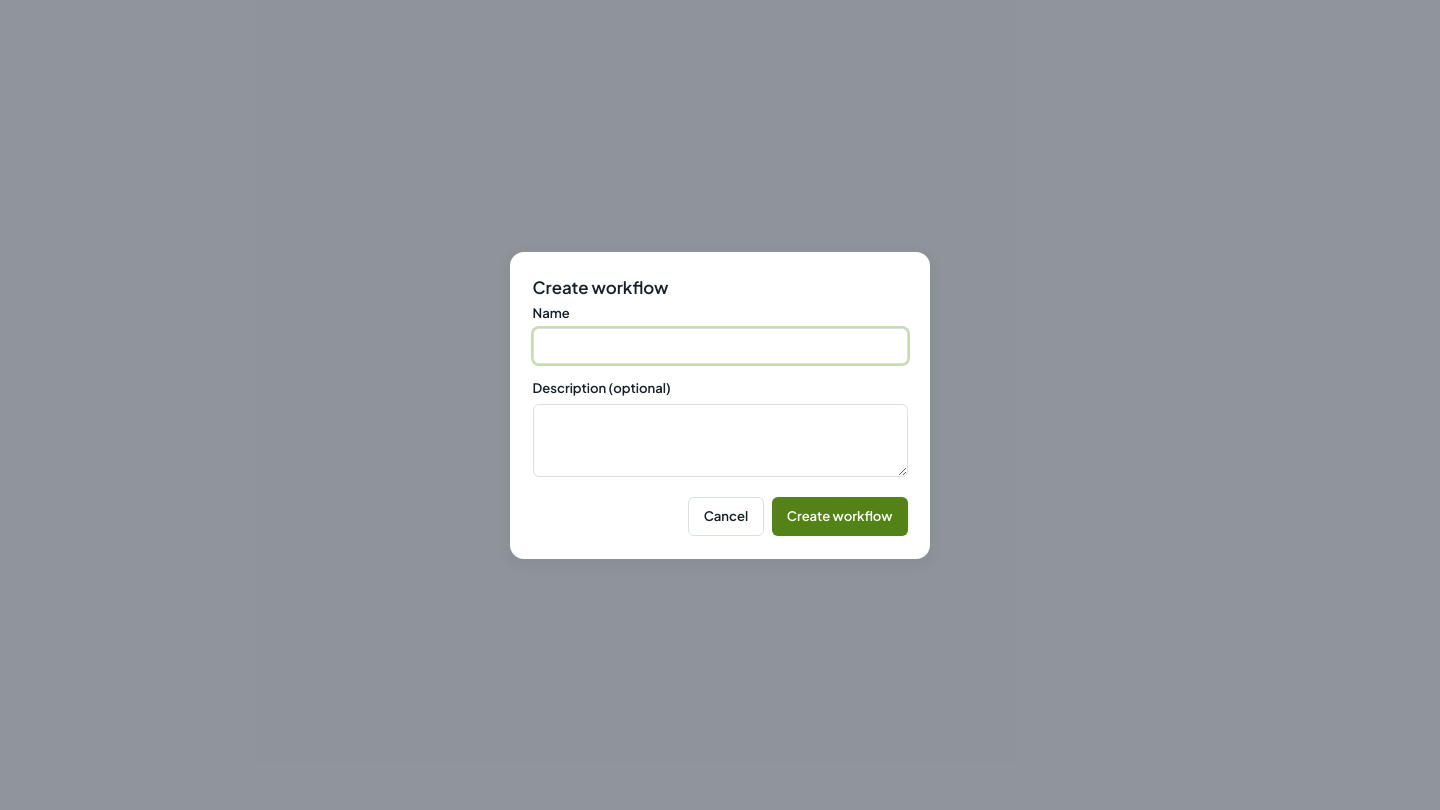
Test case: CreateWorkflowModal › clears the name error as soon as a name is typed
Click the button "Create workflow" at point(840, 516), box [772,496,908,536]
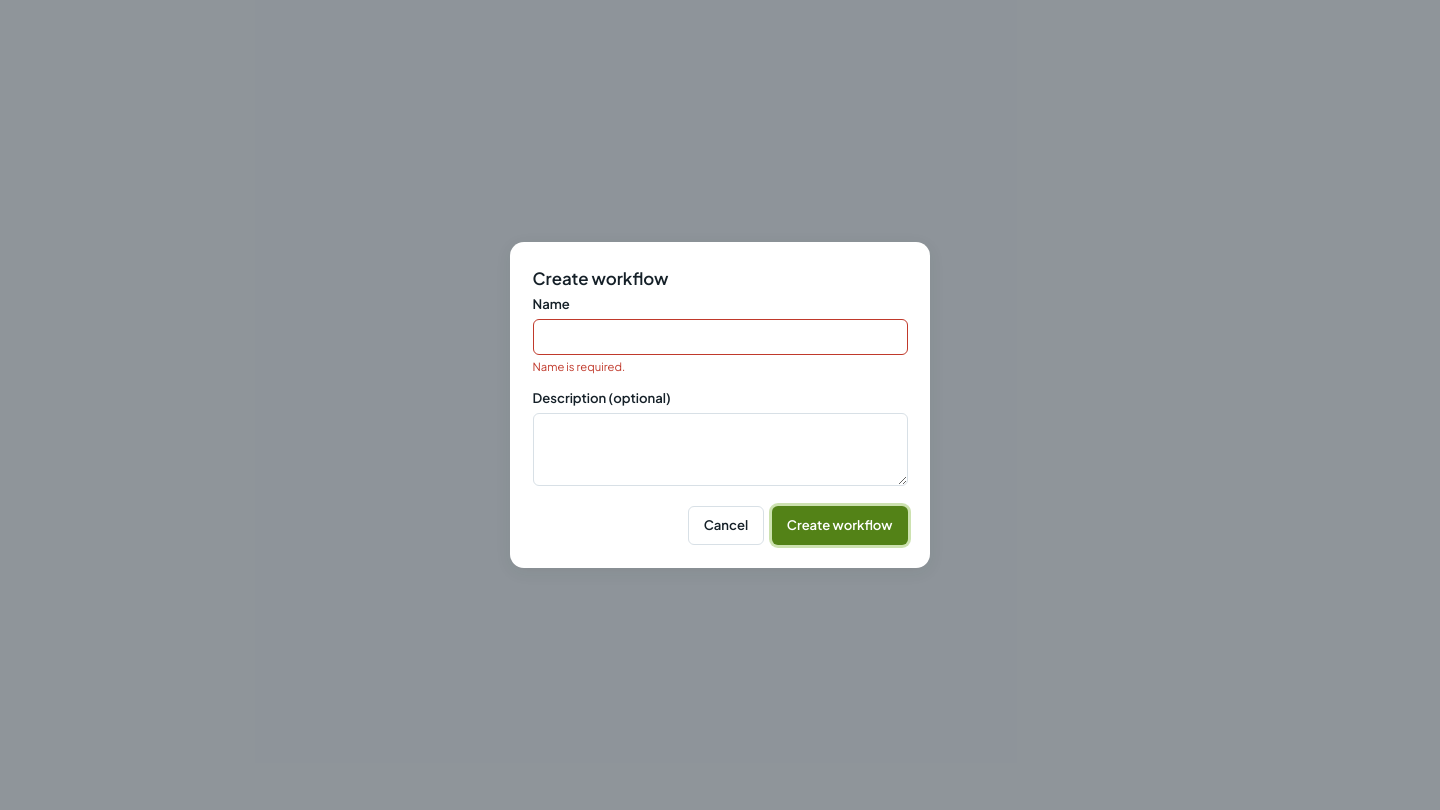
Check: the text "Name is required." is shown, box [532,358,625,372]
Type "C" into the field labelled "Name" at point(720, 337), box [532,319,908,355]
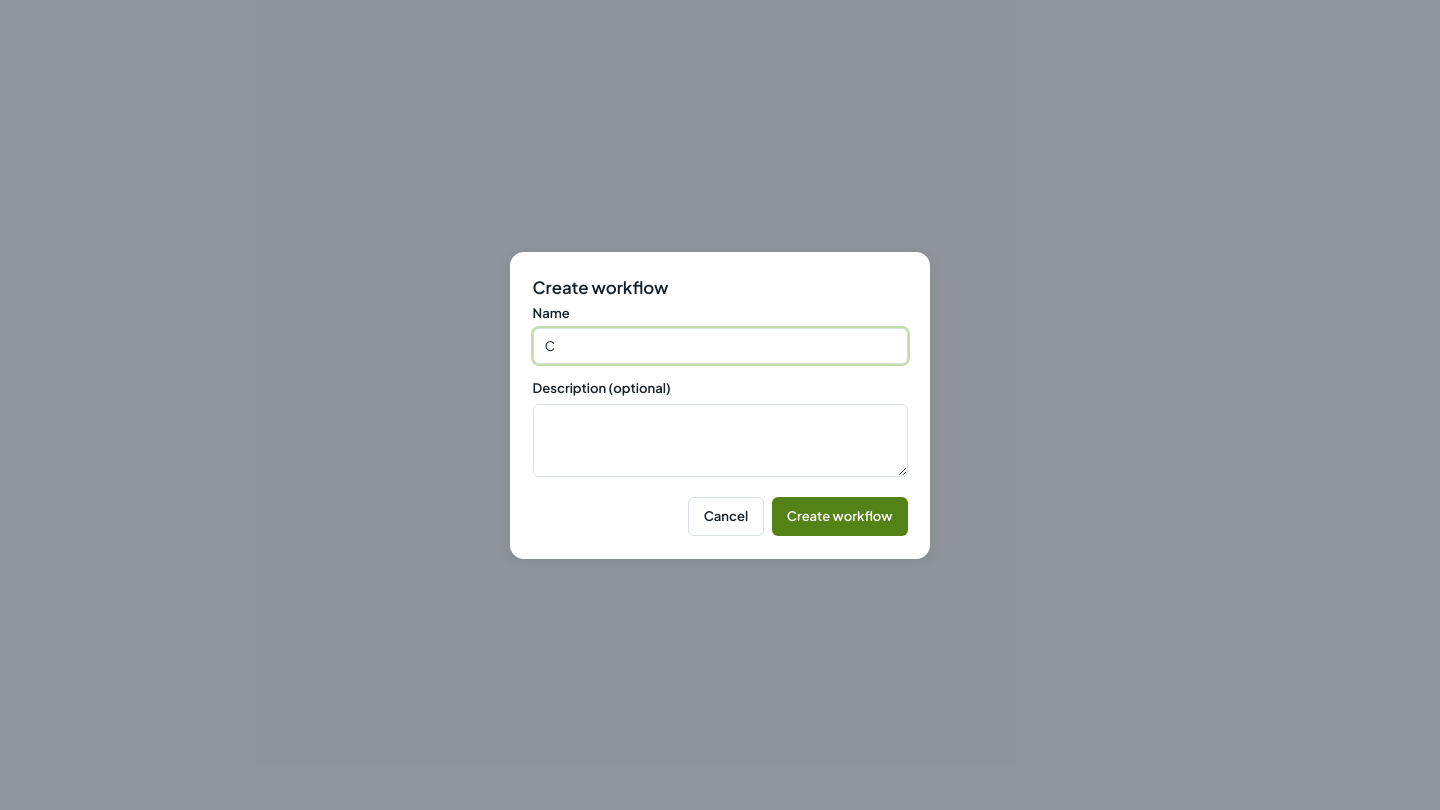
Check: the text "Name is required." is gone
